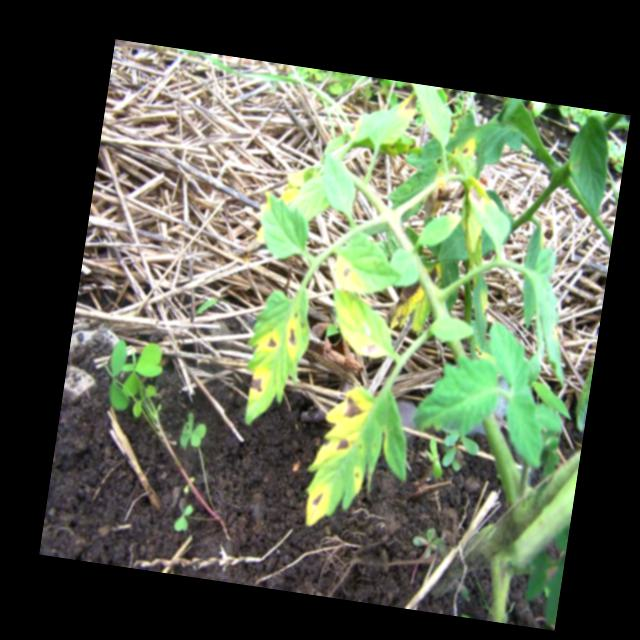Early_blight: (385, 262, 440, 330), (304, 480, 331, 529), (335, 390, 375, 423), (349, 335, 392, 359), (332, 256, 358, 291), (283, 315, 303, 360), (463, 181, 490, 212), (257, 325, 284, 353), (248, 364, 269, 397), (331, 432, 353, 454), (402, 91, 420, 114)
